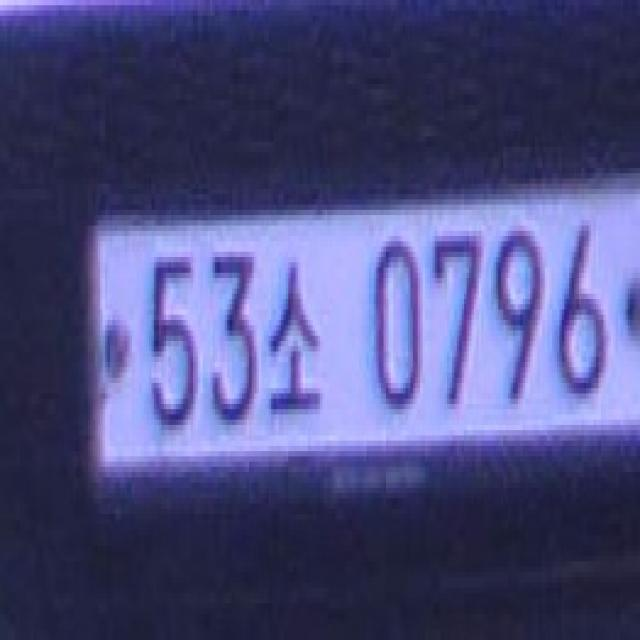0: (367, 205, 428, 430)
3: (212, 241, 262, 446)
5: (142, 236, 202, 451)
6: (562, 189, 615, 435)
7: (430, 215, 493, 446)
9: (491, 226, 550, 430)
license_plate: (75, 157, 640, 498)
so: (266, 262, 322, 430)
